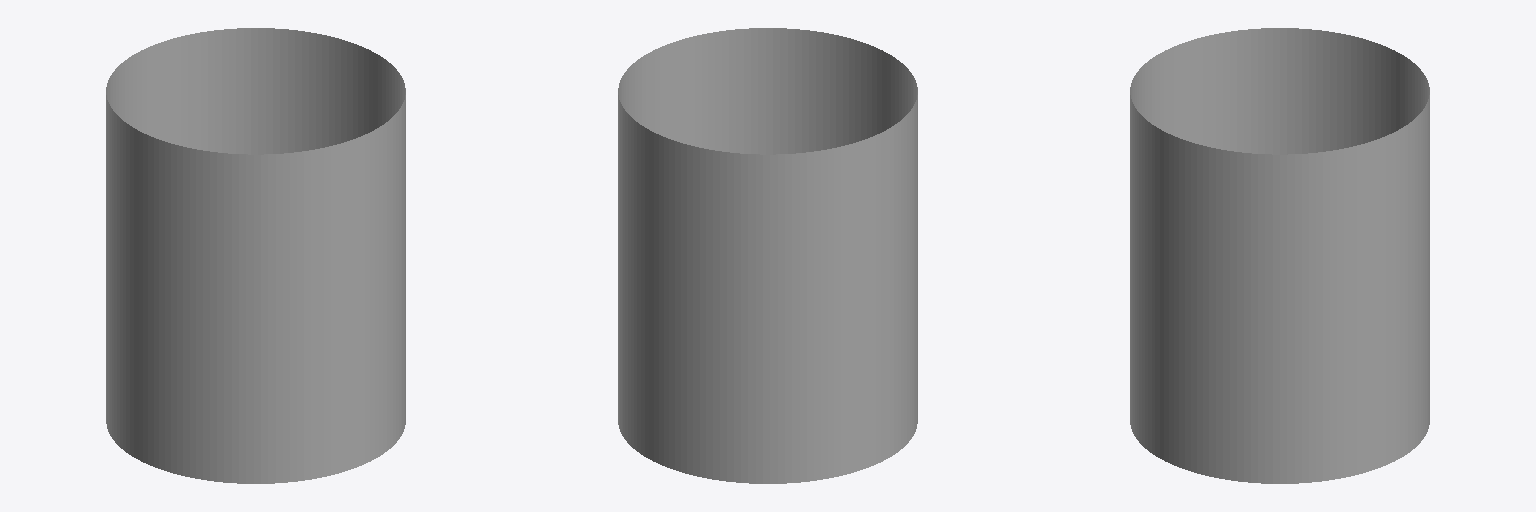
The model's file is screen_ufo_half_sphere.obj.
3 views of the same model, side by side, from view 1: azimuth 30°, elevation 25°; view 2: azimuth 150°, elevation 25°; view 3: azimuth 270°, elevation 25° (orthographic).
Visible parts, largest first — view 1: Cylinder; view 2: Cylinder; view 3: Cylinder.
Boxes of the visible parts, x1,y1,x2,y2 form: Cylinder: [106, 28, 405, 483]; Cylinder: [618, 28, 917, 483]; Cylinder: [1130, 28, 1429, 483].
Bounding box in the file's own units: 3 × 3.64 × 3.